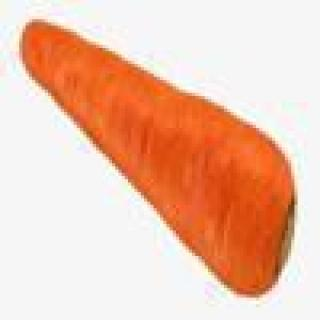Wortel: (1, 14, 302, 302)
